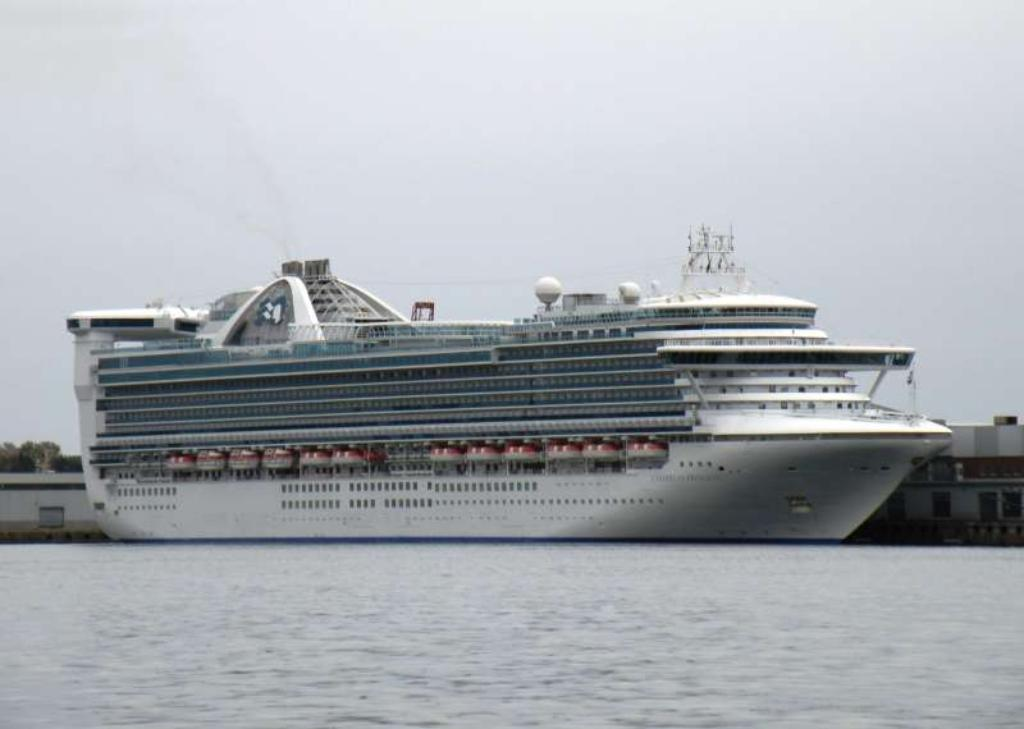PassengerShip: (56, 220, 950, 546)
